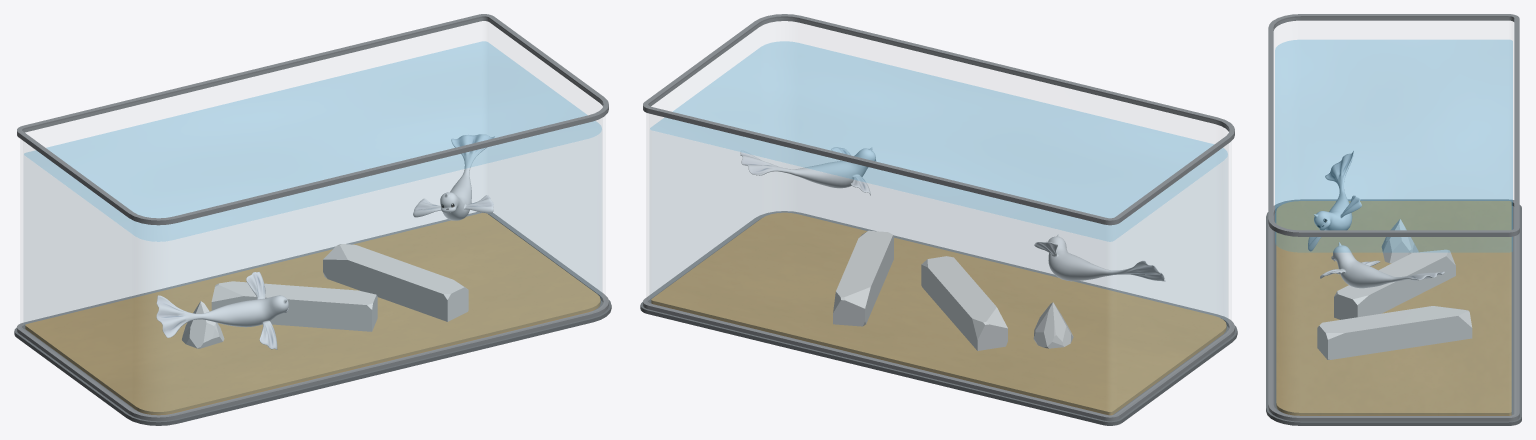
3 views of the same model, side by side, from view 1: azimuth 30°, elevation 25°; view 2: azimuth 150°, elevation 25°; view 3: azimuth 270°, elevation 25° (orthographic). The views are drawn at different scales.
Visible parts, largest first — view 1: WATER_Surface, GLASS_AcrylicShell, INTERIOR_SandFloor, STRUCTURE_TopRim, STRUCTURE_BottomRim, Cube.001, Cube.010, STRUCTURE_BasePlinth, Dewgong.001, Dewgong, Cone; view 2: WATER_Surface, INTERIOR_SandFloor, GLASS_AcrylicShell, STRUCTURE_TopRim, STRUCTURE_BottomRim, Cube.010, Cube.001, STRUCTURE_BasePlinth, Dewgong, Dewgong.001, Cone; view 3: WATER_Surface, INTERIOR_SandFloor, STRUCTURE_TopRim, Cube.001, STRUCTURE_BottomRim, STRUCTURE_BasePlinth, Cube.010, Dewgong, Dewgong.001, Cone.
Part boxes in pixels (x1,y1,x2,y2): WATER_Surface: [24, 41, 601, 241]; GLASS_AcrylicShell: [23, 118, 602, 328]; INTERIOR_SandFloor: [25, 212, 600, 415]; STRUCTURE_TopRim: [17, 14, 608, 225]; STRUCTURE_BottomRim: [17, 211, 608, 421]; Cube.001: [323, 244, 468, 321]; Cube.010: [211, 281, 377, 331]; STRUCTURE_BasePlinth: [14, 300, 611, 425]; Dewgong.001: [156, 272, 288, 349]; Dewgong: [413, 134, 495, 220]; Cone: [182, 301, 224, 348]; WATER_Surface: [650, 41, 1227, 241]; INTERIOR_SandFloor: [651, 212, 1226, 415]; GLASS_AcrylicShell: [649, 114, 1228, 327]; STRUCTURE_TopRim: [643, 14, 1234, 225]; STRUCTURE_BottomRim: [643, 211, 1234, 421]; Cube.010: [921, 256, 1007, 350]; Cube.001: [833, 230, 893, 326]; STRUCTURE_BasePlinth: [640, 302, 1237, 425]; Dewgong: [740, 147, 876, 195]; Dewgong.001: [1034, 234, 1165, 281]; Cone: [1033, 302, 1073, 348]; WATER_Surface: [1275, 40, 1512, 252]; INTERIOR_SandFloor: [1276, 201, 1511, 415]; STRUCTURE_TopRim: [1268, 14, 1519, 236]; Cube.001: [1317, 306, 1472, 359]; STRUCTURE_BottomRim: [1268, 199, 1519, 421]; STRUCTURE_BasePlinth: [1266, 205, 1521, 425]; Cube.010: [1334, 249, 1455, 319]; Dewgong: [1320, 242, 1444, 288]; Dewgong.001: [1308, 150, 1361, 251]; Cone: [1381, 219, 1418, 263].
Bounding box in the file's own units: 102 × 41.5 × 50.
Materials: 14 (6 with a texture image).
